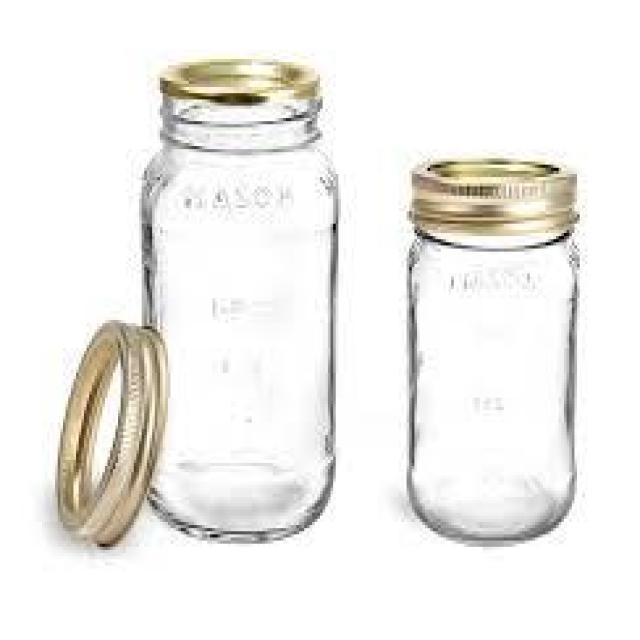Glass: (138, 56, 340, 546), (406, 154, 584, 548)
